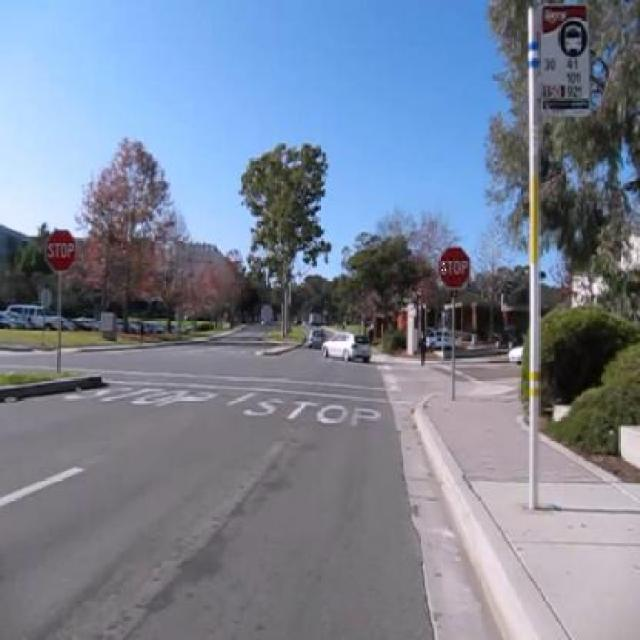stop: (437, 246, 471, 290), (45, 228, 77, 272)
